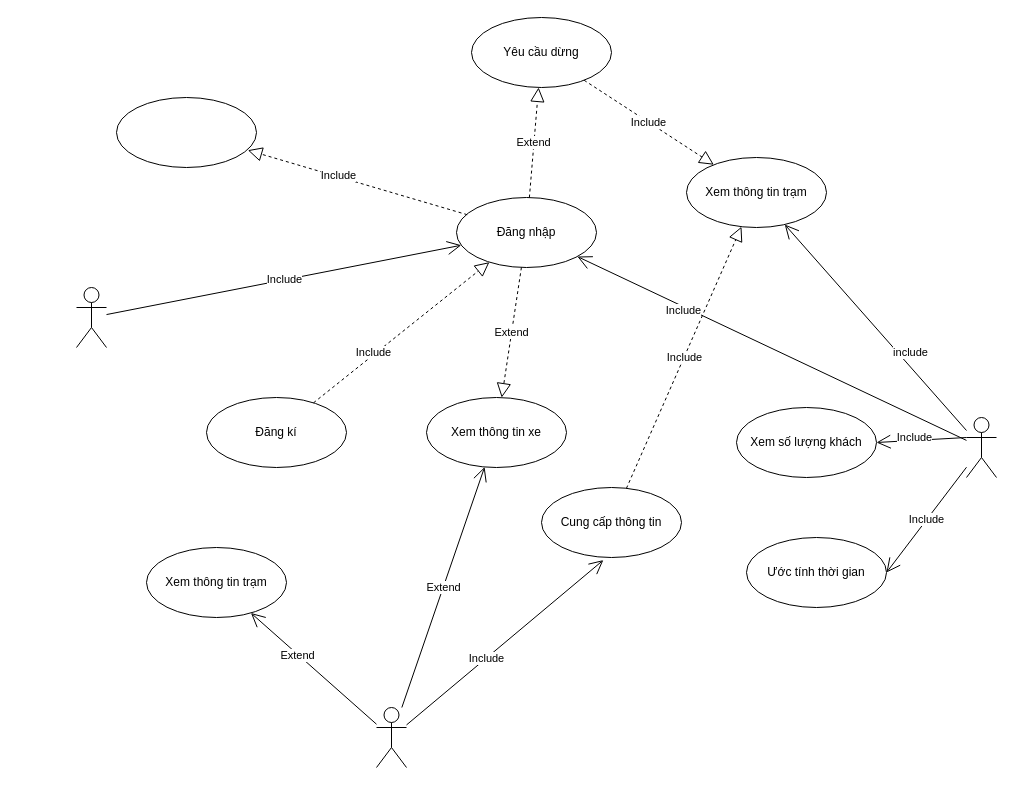
The diagram is 1015 pixels wide and 806 high, and some of its shapes have lost their labels. The shapes that lost their labels are listed below. From the top down, each one's centre as x and y in pixels, then its label:
At (186,132): "Thanh toán".
At (91,317): "Khách hàng dùng điện thoại".
At (981,447): "Tài xế".
At (391,737): "Khách hàng dùng thẻ".
